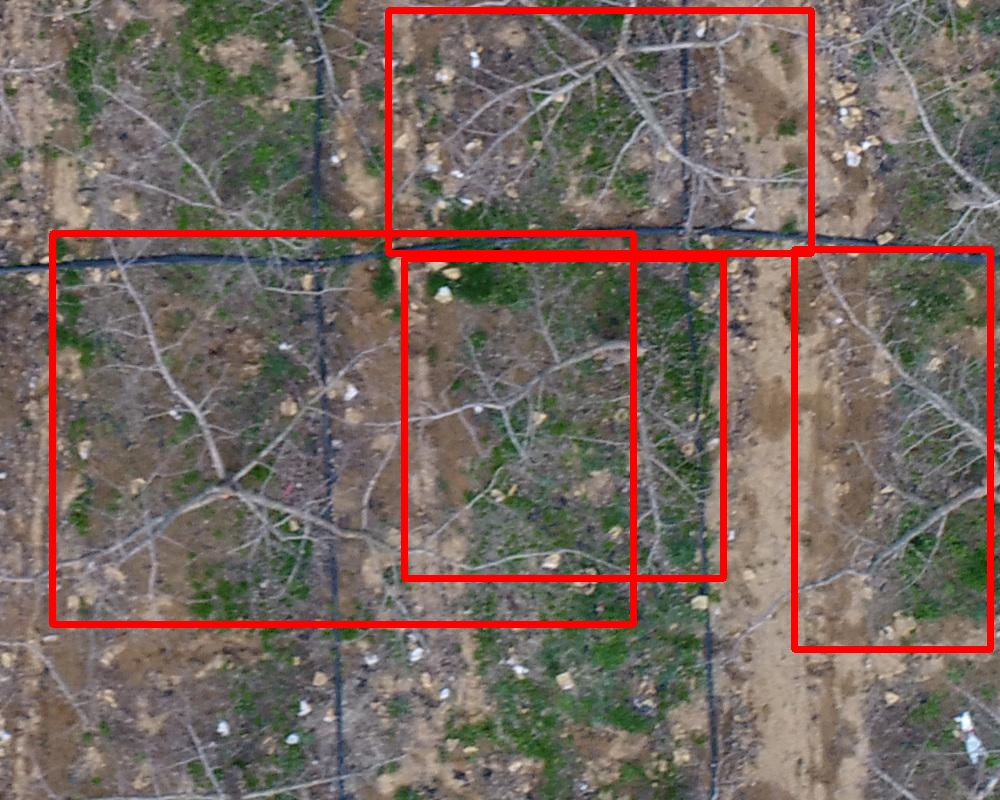apple: (52, 233, 633, 624), (388, 10, 811, 253), (404, 258, 723, 578), (794, 249, 990, 649)
